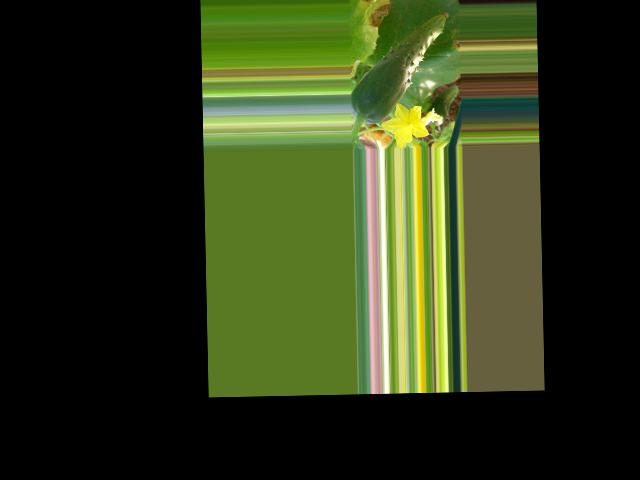cucumber: (349, 12, 451, 124)
